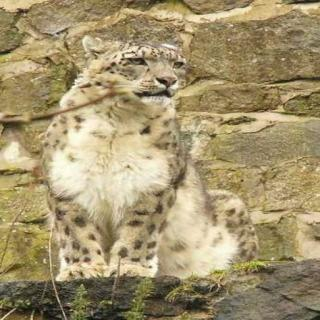Leopard: (27, 19, 270, 288)
